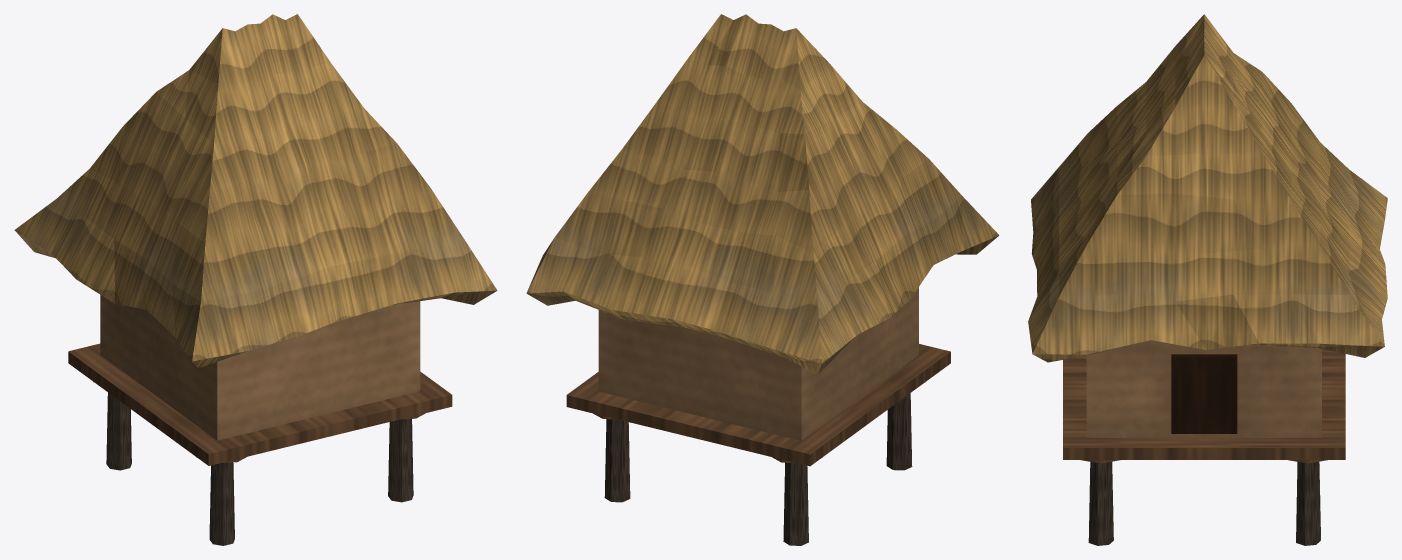
The model's file is granaio_su_pali.glb.
3 views of the same model, side by side, from view 1: azimuth 30°, elevation 25°; view 2: azimuth 150°, elevation 25°; view 3: azimuth 270°, elevation 25° (orthographic).
Visible parts, largest first — view 1: granaio_su_pali; view 2: granaio_su_pali; view 3: granaio_su_pali.
Boxes of the visible parts, x1=… form: granaio_su_pali: x1=14, y1=14, x2=497, y2=545; granaio_su_pali: x1=526, y1=14, x2=999, y2=545; granaio_su_pali: x1=1028, y1=14, x2=1387, y2=545.
Size of the model in its own units: 3.89 by 5.46 by 3.82.
Materials: 5 (5 with a texture image).
